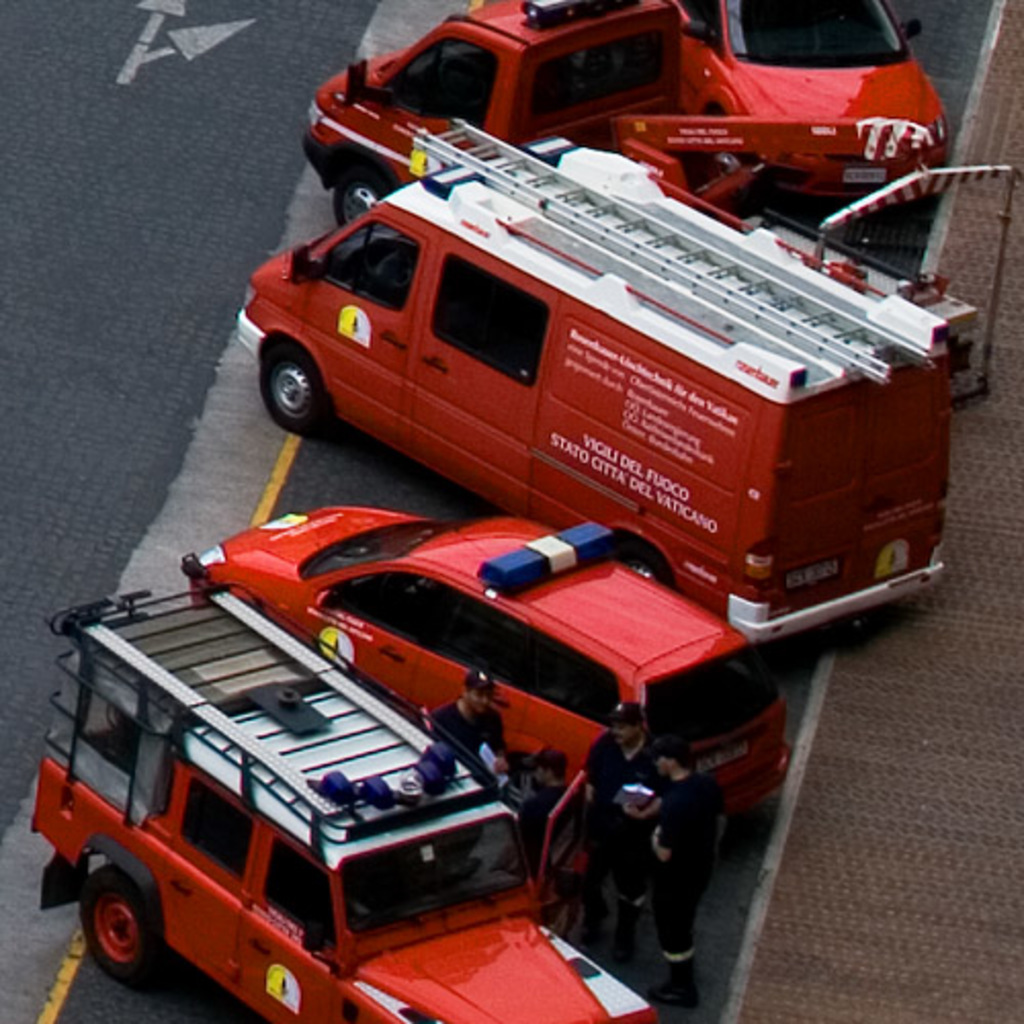Car: (180, 507, 796, 813), (671, 0, 956, 215)
